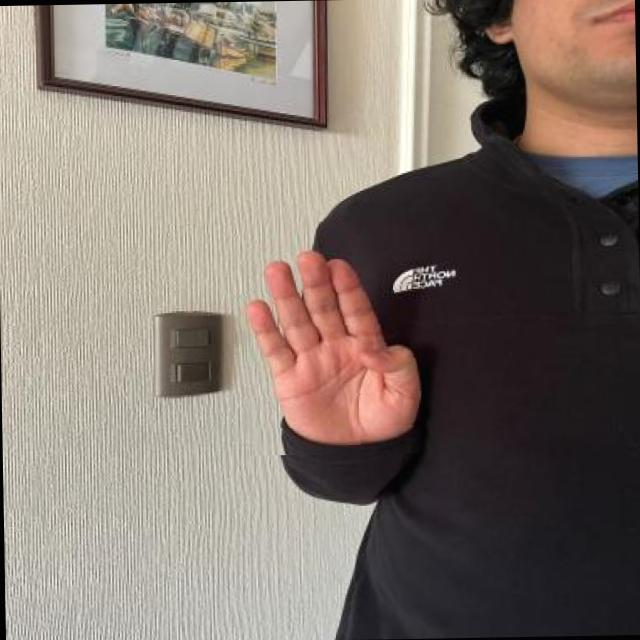B: (238, 238, 422, 456)
